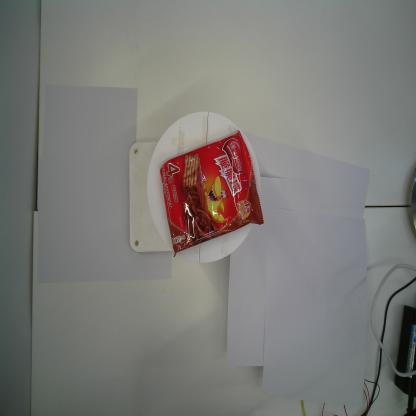Dessert: (160, 130, 265, 257)
